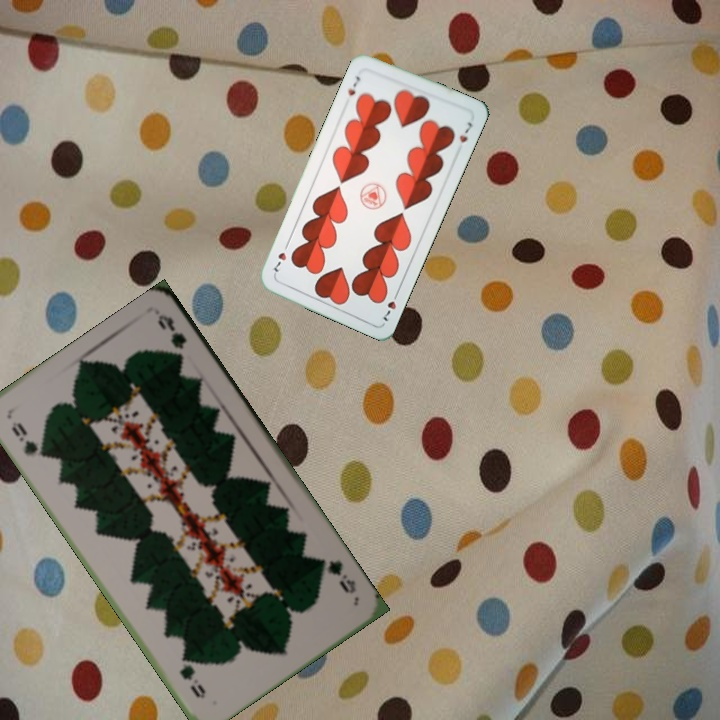G9: (314, 554, 359, 597), (7, 418, 50, 461)
H7: (379, 286, 402, 324), (344, 72, 363, 98)
